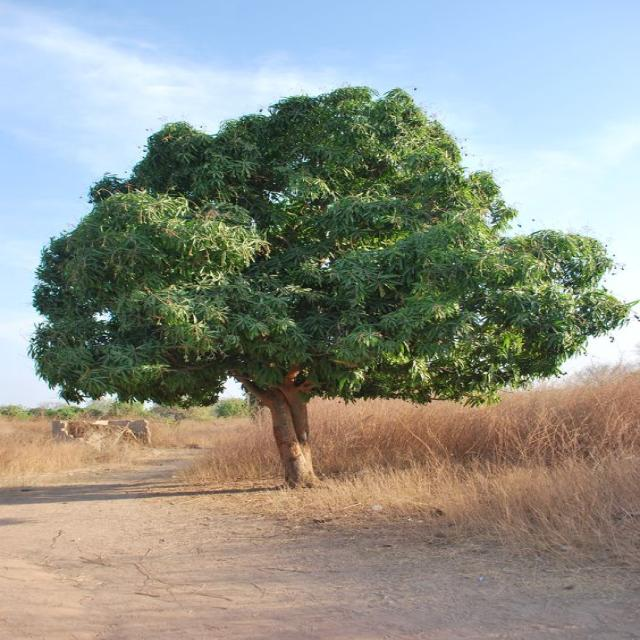Mango-Tree: (29, 79, 634, 450)
